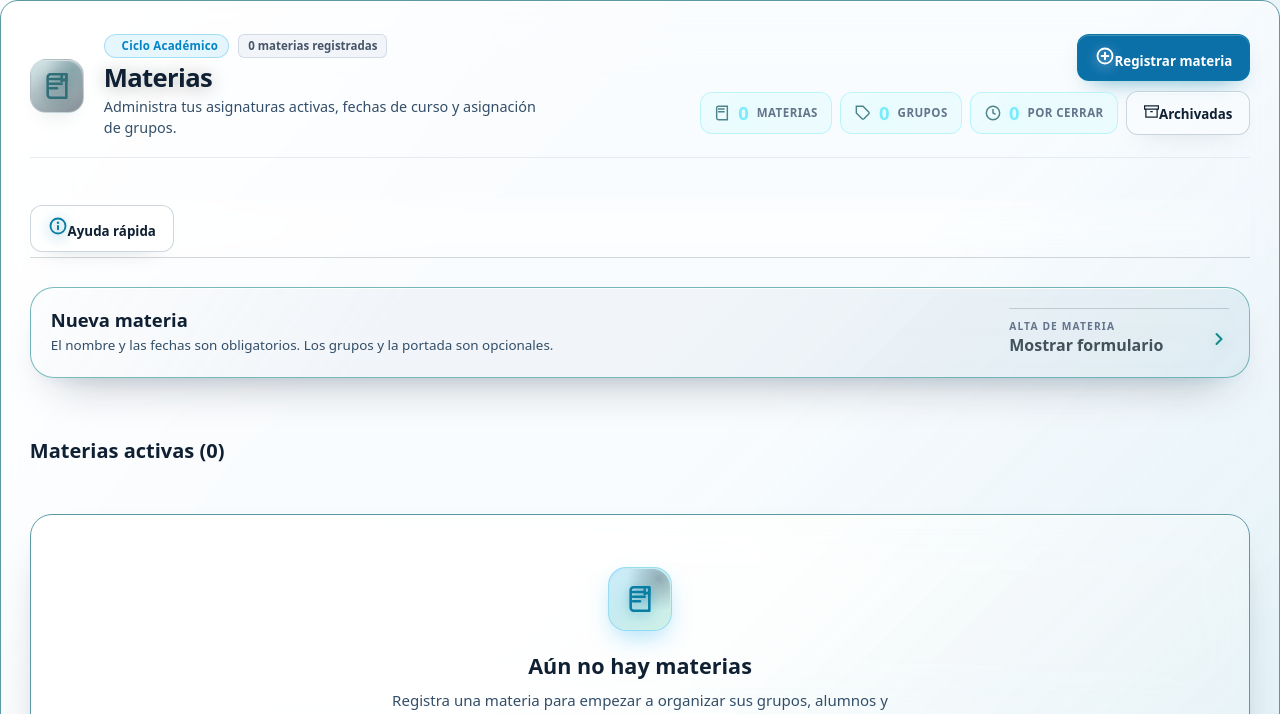
Test case: SeccionPeriodos edición › inicia la guía plegada y permite consultarla bajo demanda
Check: the text "PASO 01" is not shown
Click the button with aria-label "Ver guía rápida de configuración" at point(102, 228), box left=30, top=204, right=174, bottom=252
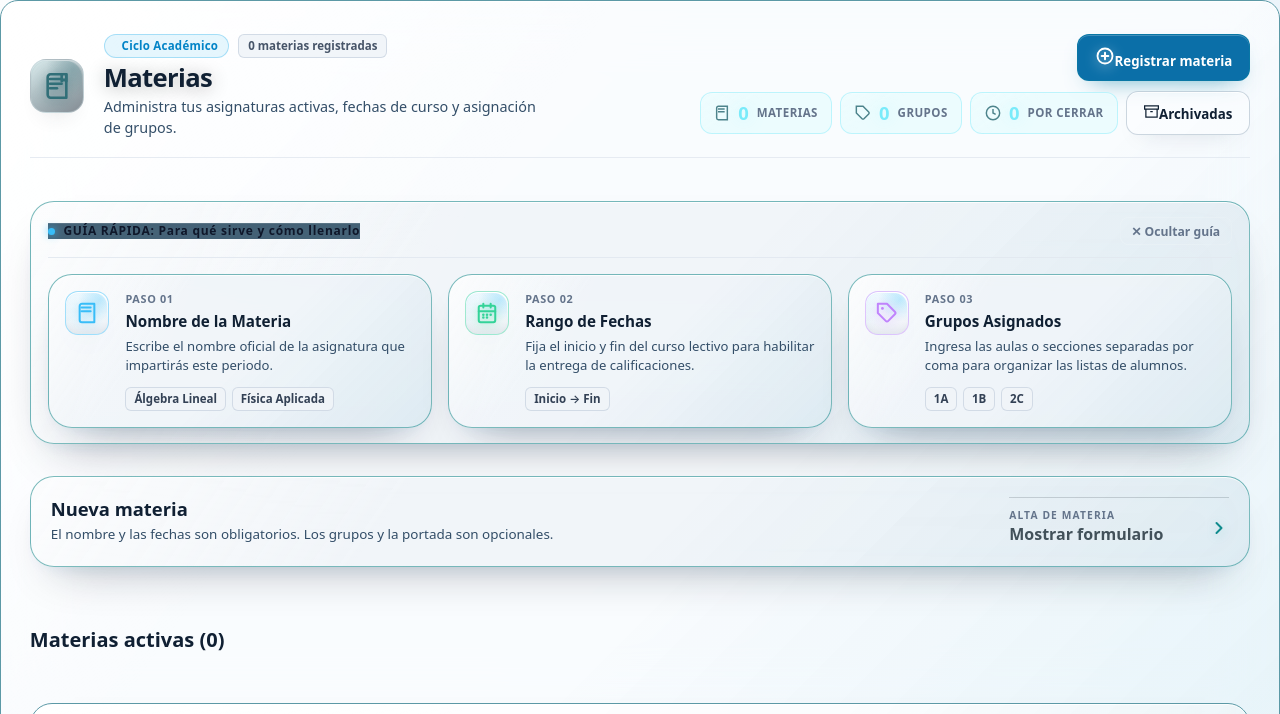
Check: the text "PASO 01" is shown, box left=125, top=291, right=174, bottom=306
